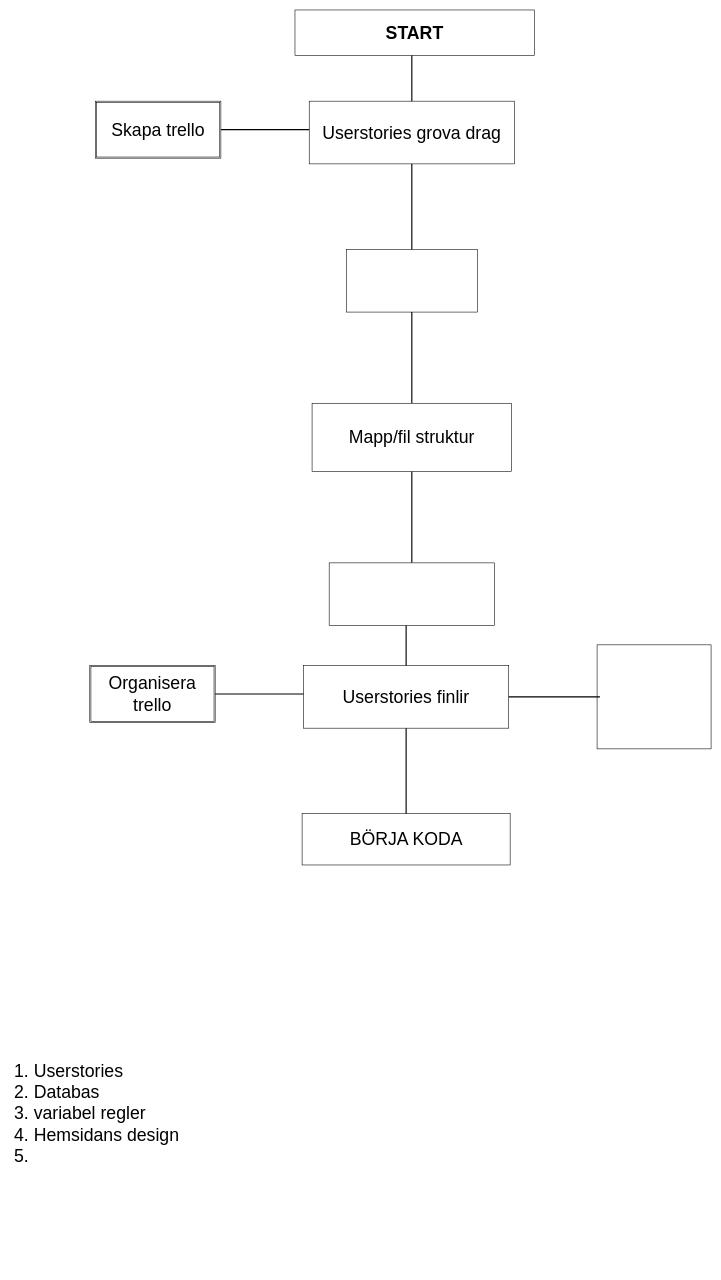
Some shapes in this 721 by 1280 pixel diagram are drawn without their labels. Here are the shapes that lost their labels. From the top down, the centre of each, then its label:
the point at 411,280: Databas
the point at 411,594: Variabler regler m.m
the point at 654,696: Kolla vem som gör vad, backlog osv
